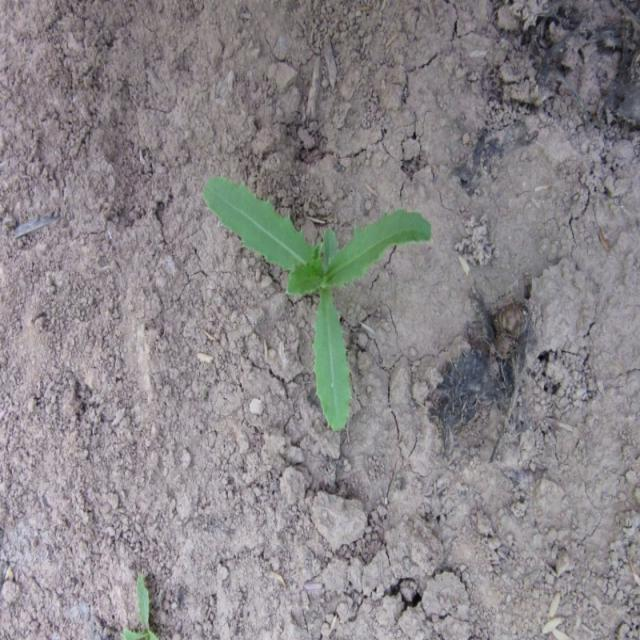field_thistle: (147, 159, 424, 394)
